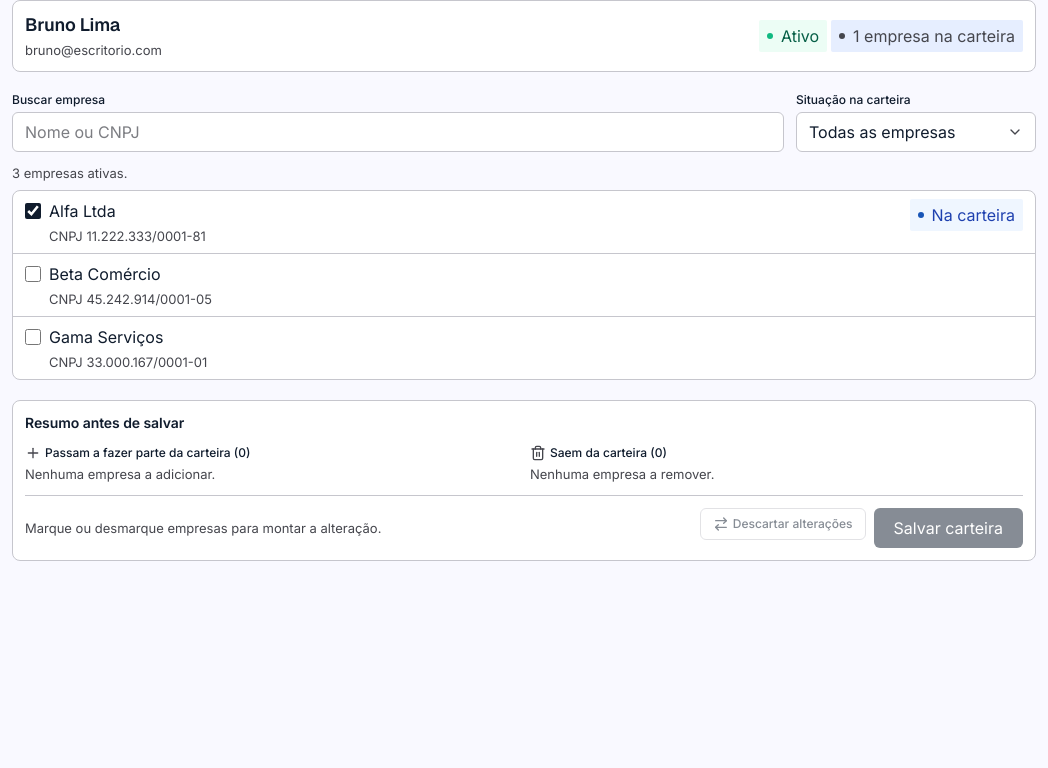
Test: GestaoDaCarteira › marcar e desmarcar de novo desfaz a alteração
What coordinates should you click on to do the following:
click the checkbox labelled "Beta Comércio"
I would click on:
 (33, 274)
Its box is [25,266,41,282].
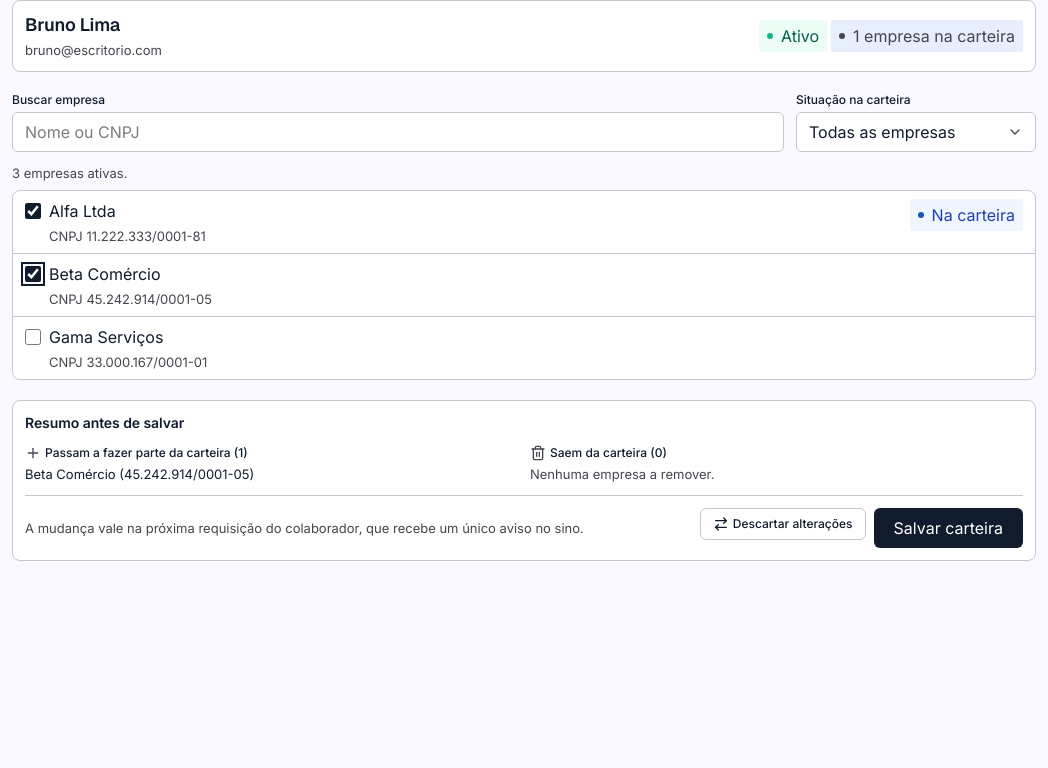
What coordinates should you click on to do the following:
click the checkbox labelled "Beta Comércio"
I would click on:
 (33, 274)
Its box is [25,266,41,282].
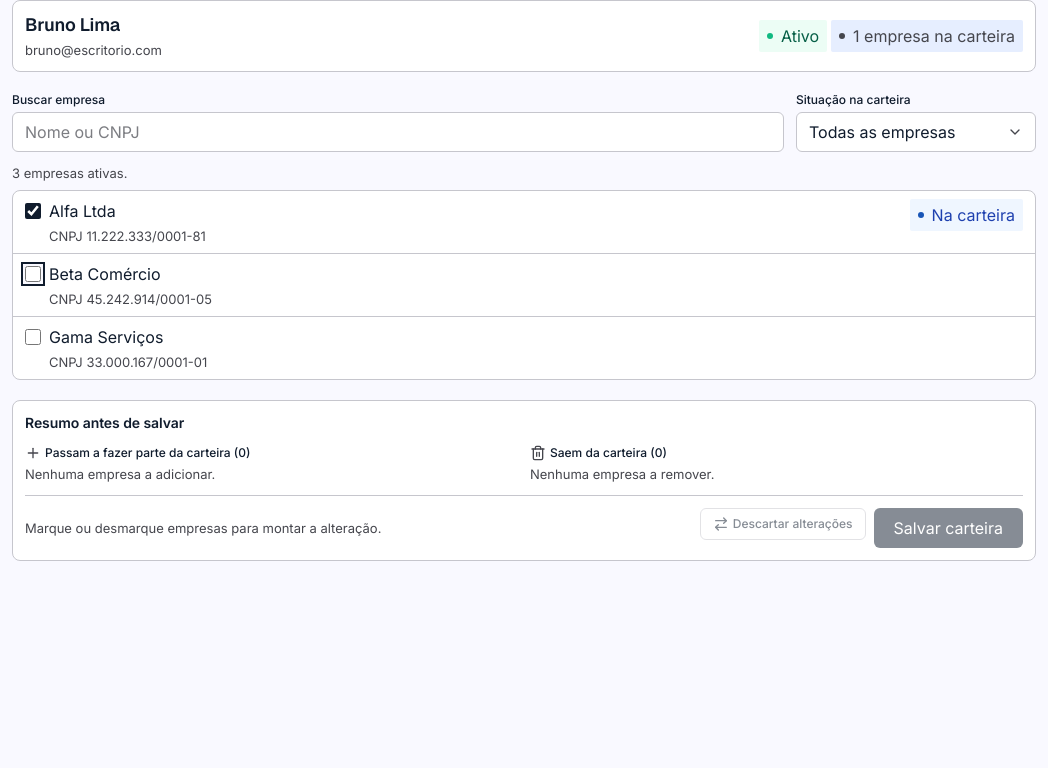
Now the text "Nenhuma empresa a adicionar." is shown, box [25,466,215,482]
Now the button "Salvar carteira" is disabled, box [874,508,1023,548]
